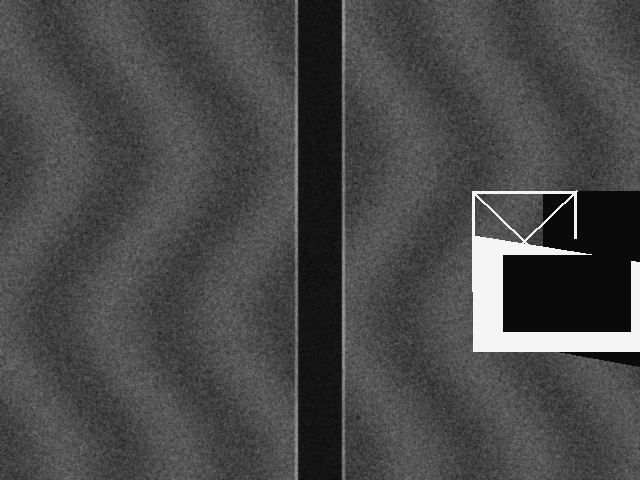Abandoned Equipment: (472, 191, 576, 291)
Ship/Boat Debris: (473, 235, 640, 351)
